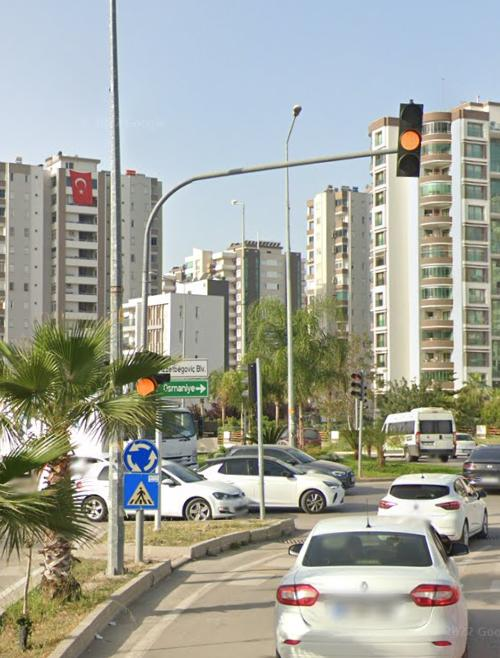crossroads: (127, 442, 161, 474)
yellowlight: (396, 102, 425, 182), (131, 367, 160, 438)
